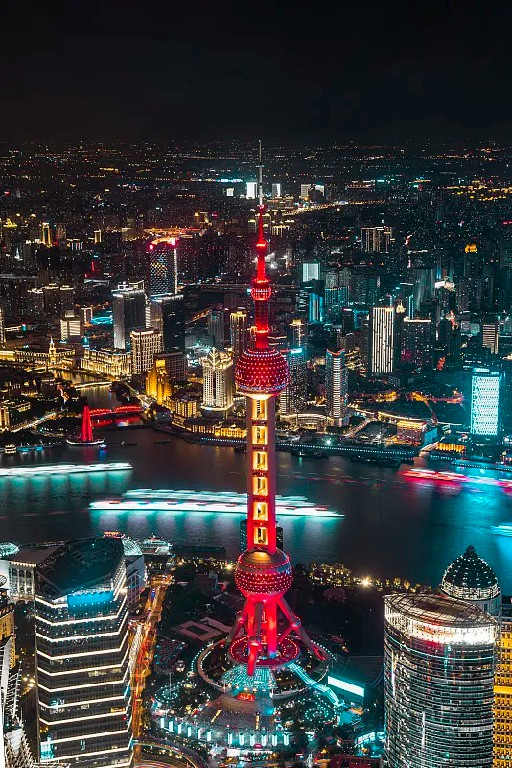Oriental: (222, 138, 308, 676)
